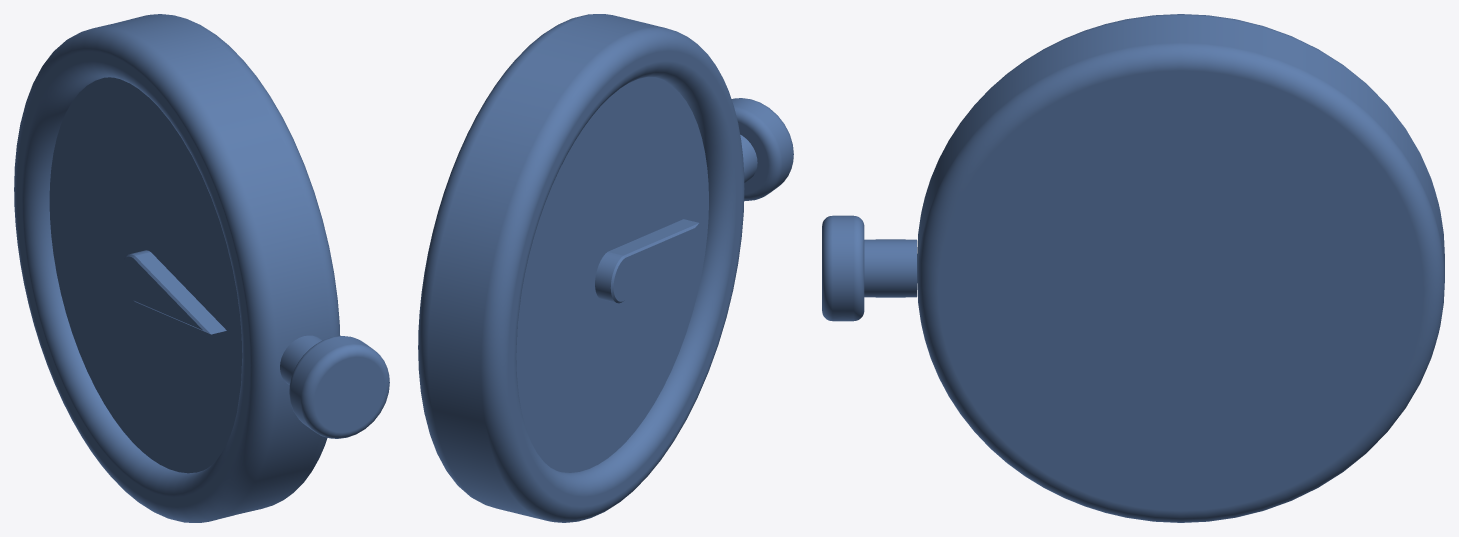
The model's file is ArmClock.fbx.
3 renders of one model, left to right at view 1: azimuth 30°, elevation 25°; view 2: azimuth 150°, elevation 25°; view 3: azimuth 270°, elevation 25°, orthographic. The views are drawn at different scales.
Visible parts, largest first — view 1: Body3, Body2, Body4; view 2: Body3, Body2, Body4; view 3: Body3.
Boxes of the visible parts, left/top/right/bottom form: Body3: left=14, top=14, right=389, bottom=522; Body2: left=49, top=77, right=242, bottom=473; Body4: left=121, top=250, right=226, bottom=334; Body3: left=418, top=14, right=793, bottom=522; Body2: left=516, top=77, right=708, bottom=472; Body4: left=595, top=219, right=698, bottom=303; Body3: left=822, top=14, right=1444, bottom=522.
Bounding box in the file's own units: 10 × 50 × 59.
